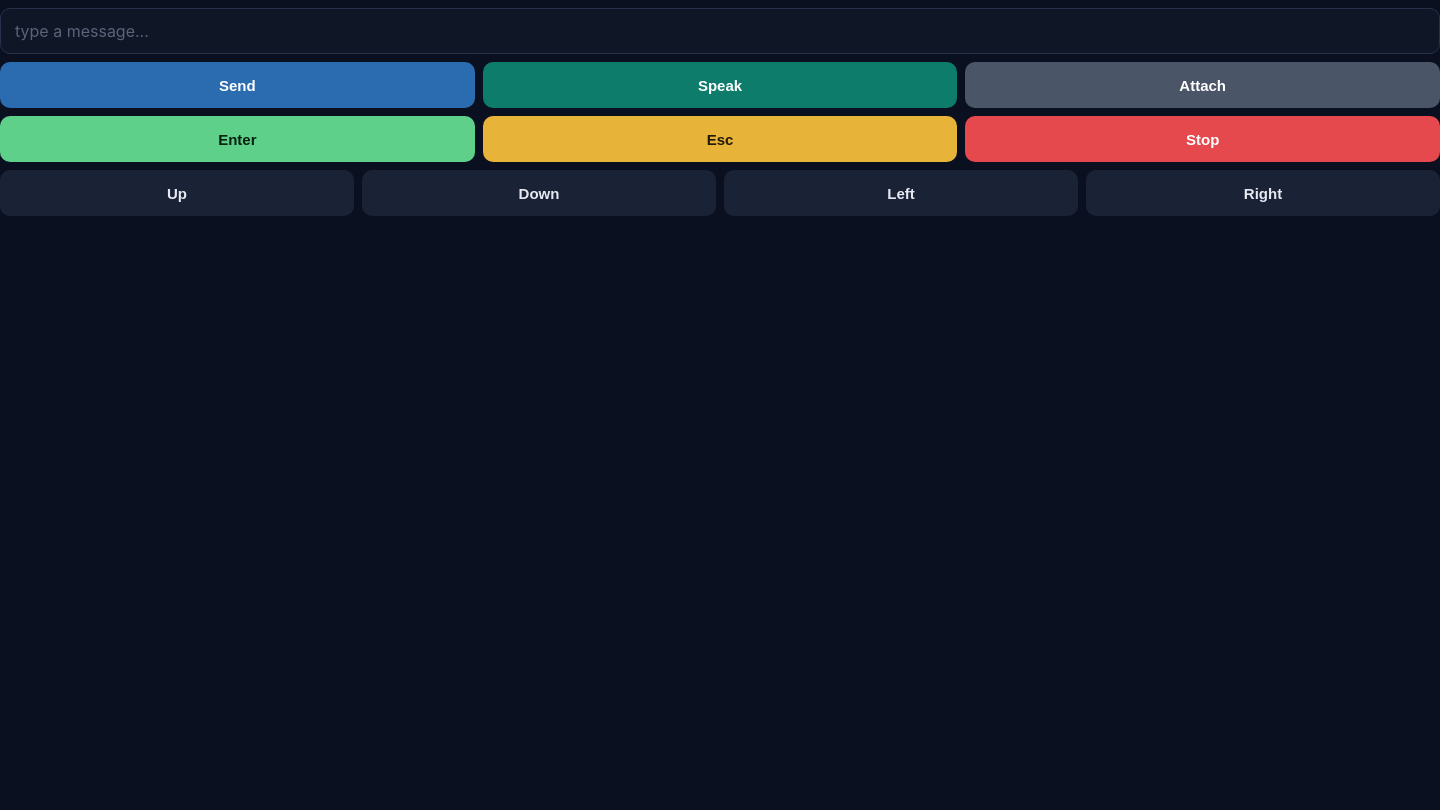
it: Mobile Speak Send-direct (recording-stage) › hands the captured audio to the background pipeline with the Speak-press baseline, so the moved-on guard arms
Type "AB" into the text box with placeholder "type a message..." at [720, 31], box [0,8,1439,54]
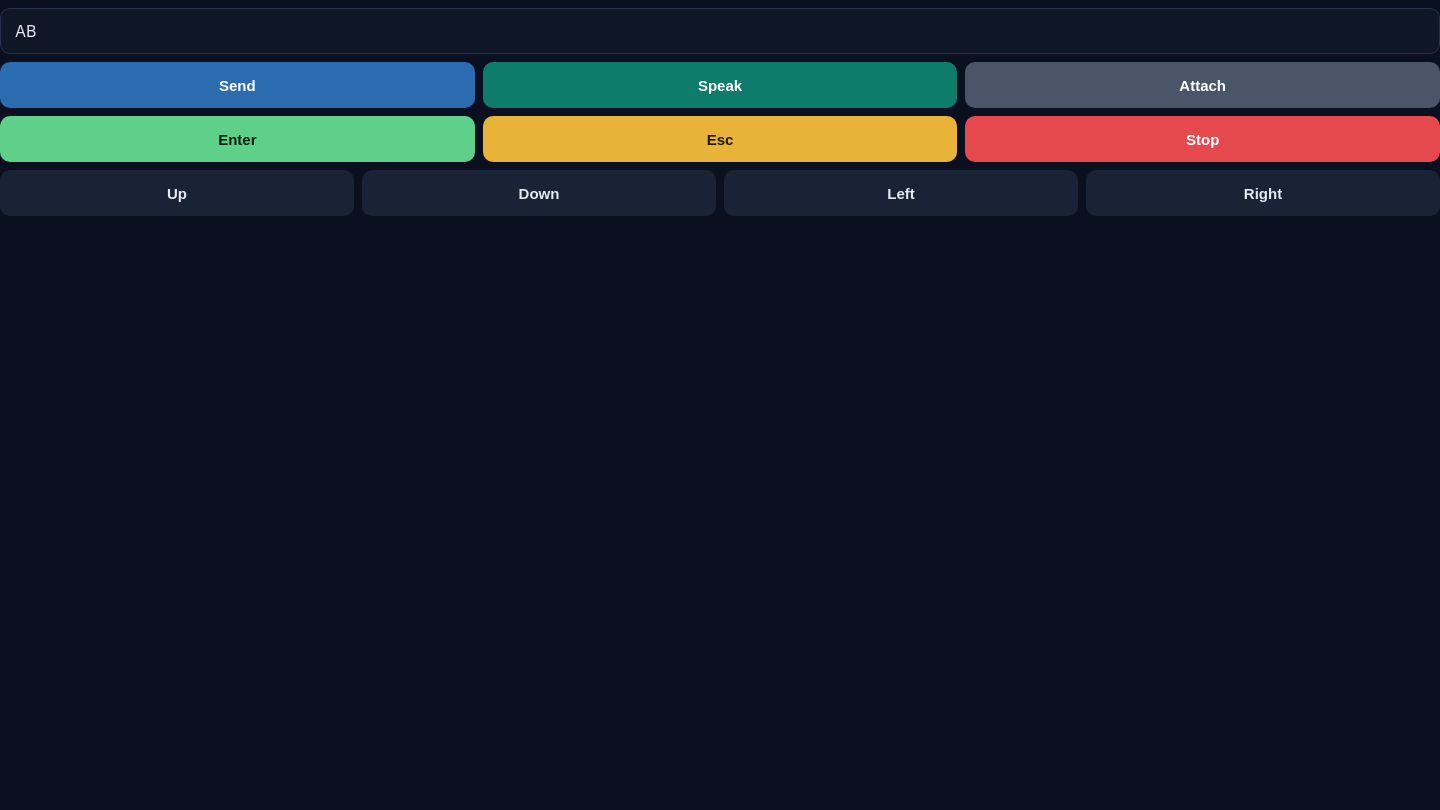
Click the button "Speak" at [720, 85], box [483,62,957,108]
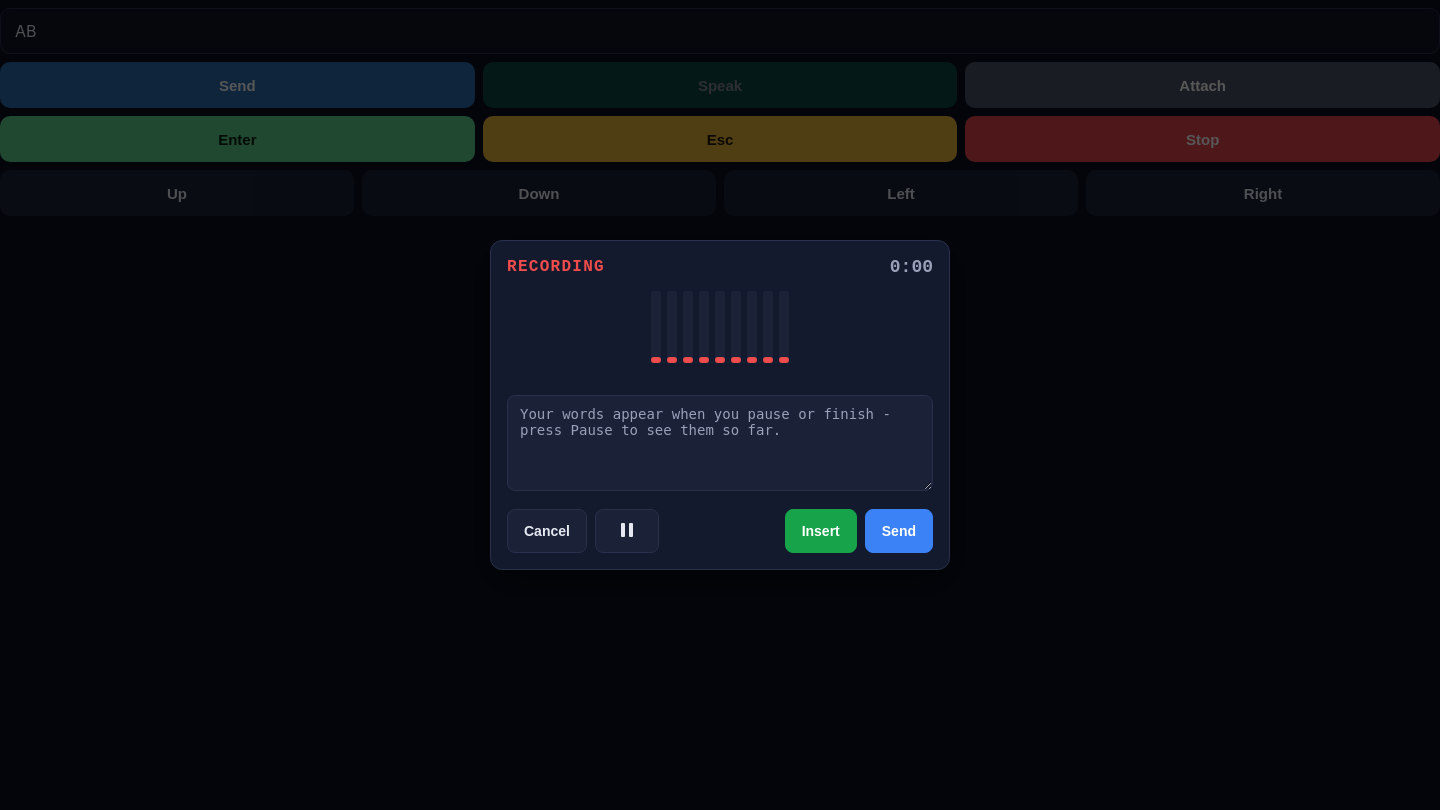
Expected: the text "RECORDING" is shown, [507,258,605,276]
Click the button "Send" at [899, 531], box [865,509,933,553]
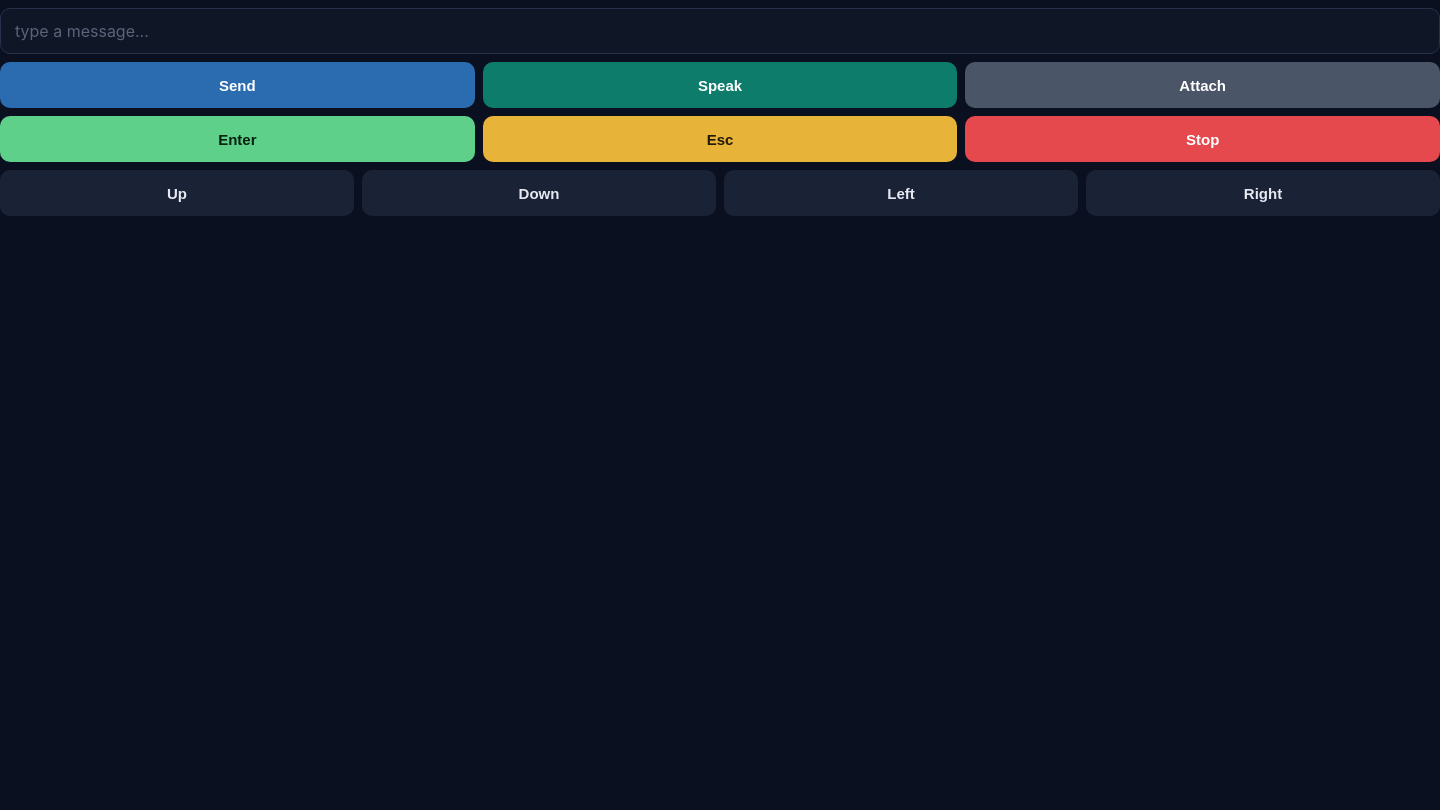
Expected: the dialog "Dictate" is gone
